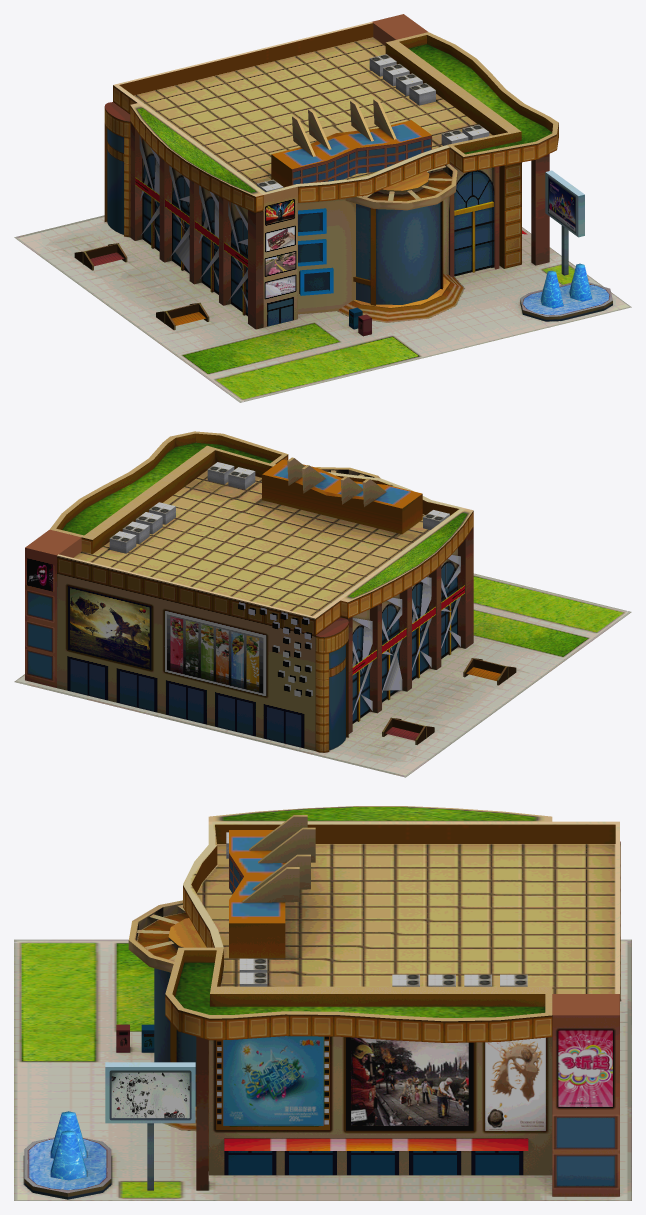
Rendered from dianyingyuan.FBX.
The picture shows the model from 3 angles, top to bottom: view 1: azimuth 30°, elevation 25°; view 2: azimuth 150°, elevation 25°; view 3: azimuth 270°, elevation 25°; orthographic projection. The views are drawn at different scales.
Parts seen in each view (by area): view 1: gouwudi01; view 2: gouwudi01; view 3: gouwudi01.
Boxes of the visible parts, x1,y1,x2,y2 form: gouwudi01: [14, 14, 631, 402]; gouwudi01: [14, 431, 631, 777]; gouwudi01: [14, 806, 631, 1200].
Size of the model in its own units: 1351 by 554 by 1342.
1 material, 1 textured.
